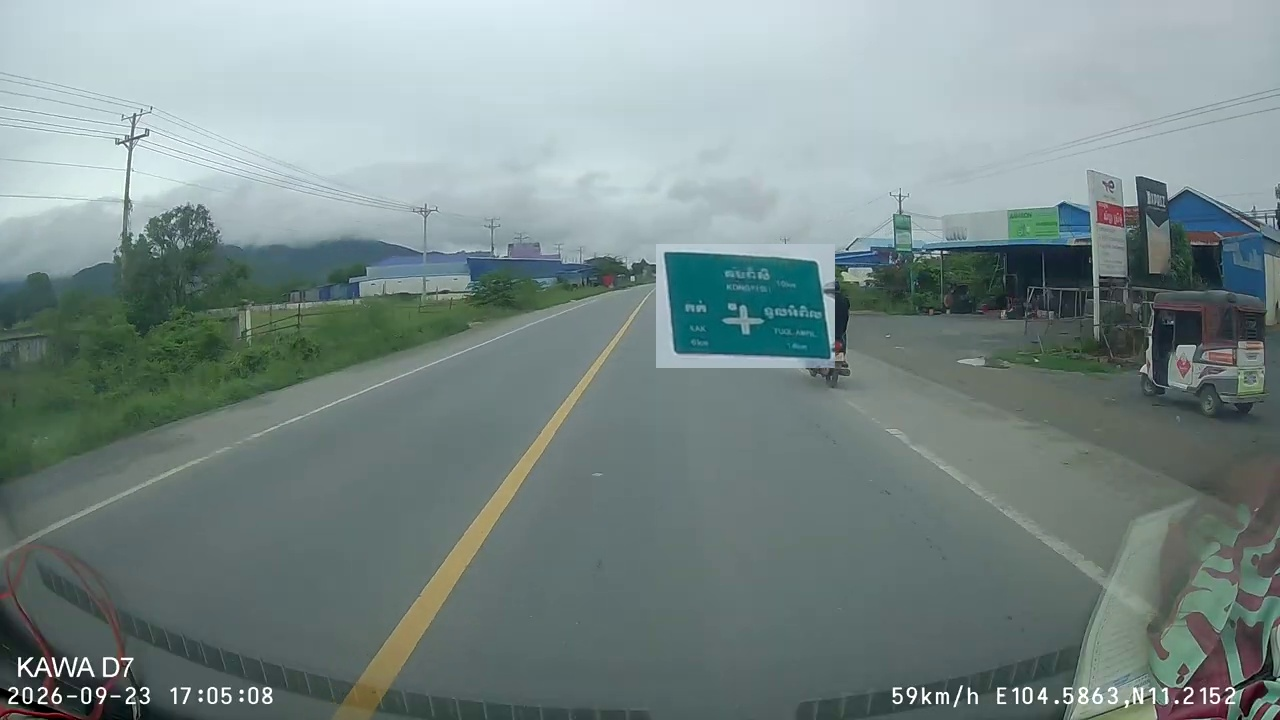direction_sign: (656, 244, 835, 368)
